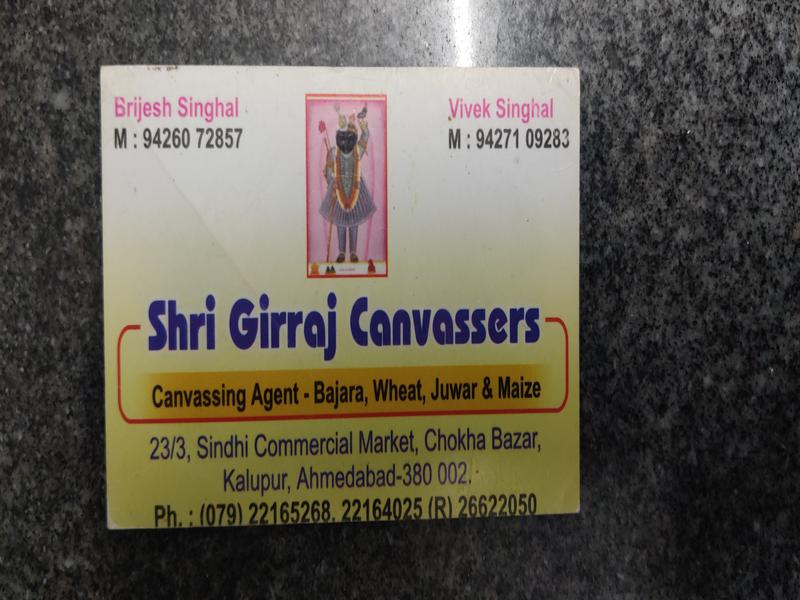card: (94, 55, 589, 533)
